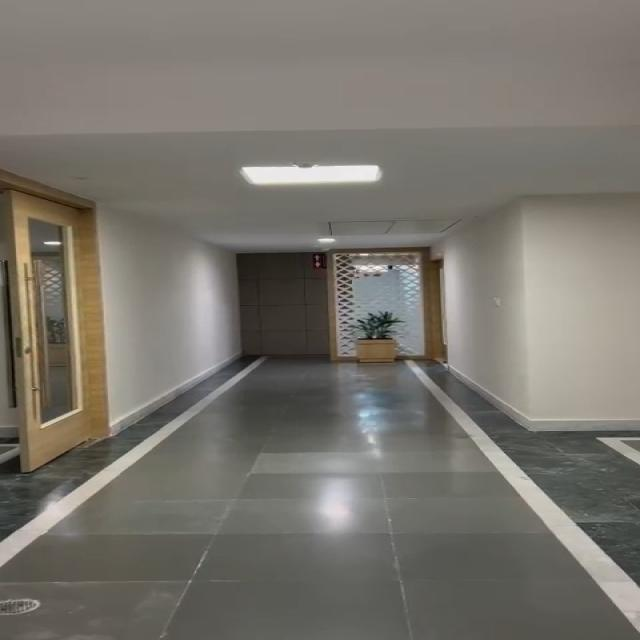door: (0, 175, 109, 474), (230, 252, 436, 366)
floor: (177, 379, 464, 640)
furniture: (347, 311, 409, 372)
wall: (451, 17, 640, 480)
